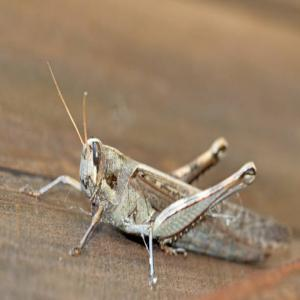locust: (64, 87, 300, 272)
